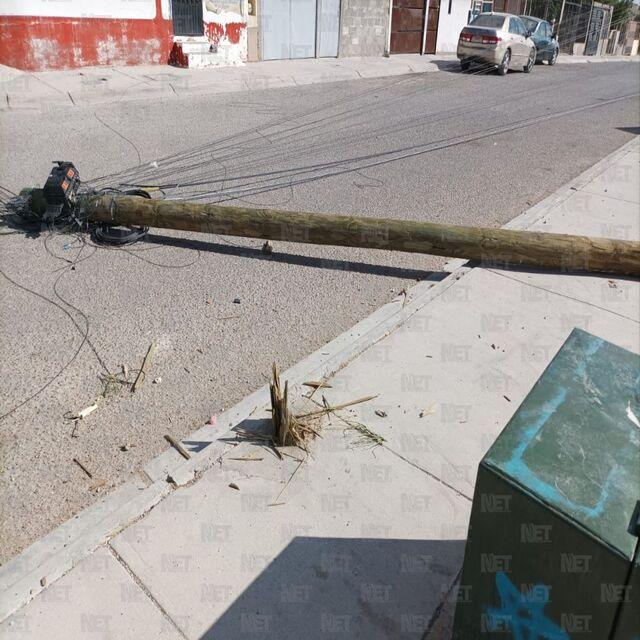Inclined Pole: (12, 142, 639, 283)
